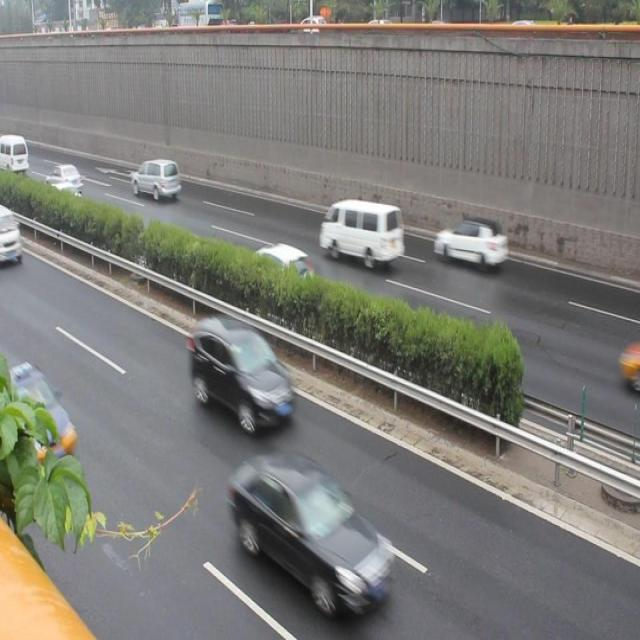car: (231, 444, 397, 618), (181, 308, 299, 422), (1, 357, 84, 481), (434, 214, 506, 271), (251, 232, 318, 293)
truck: (315, 187, 405, 274), (131, 154, 183, 203)
